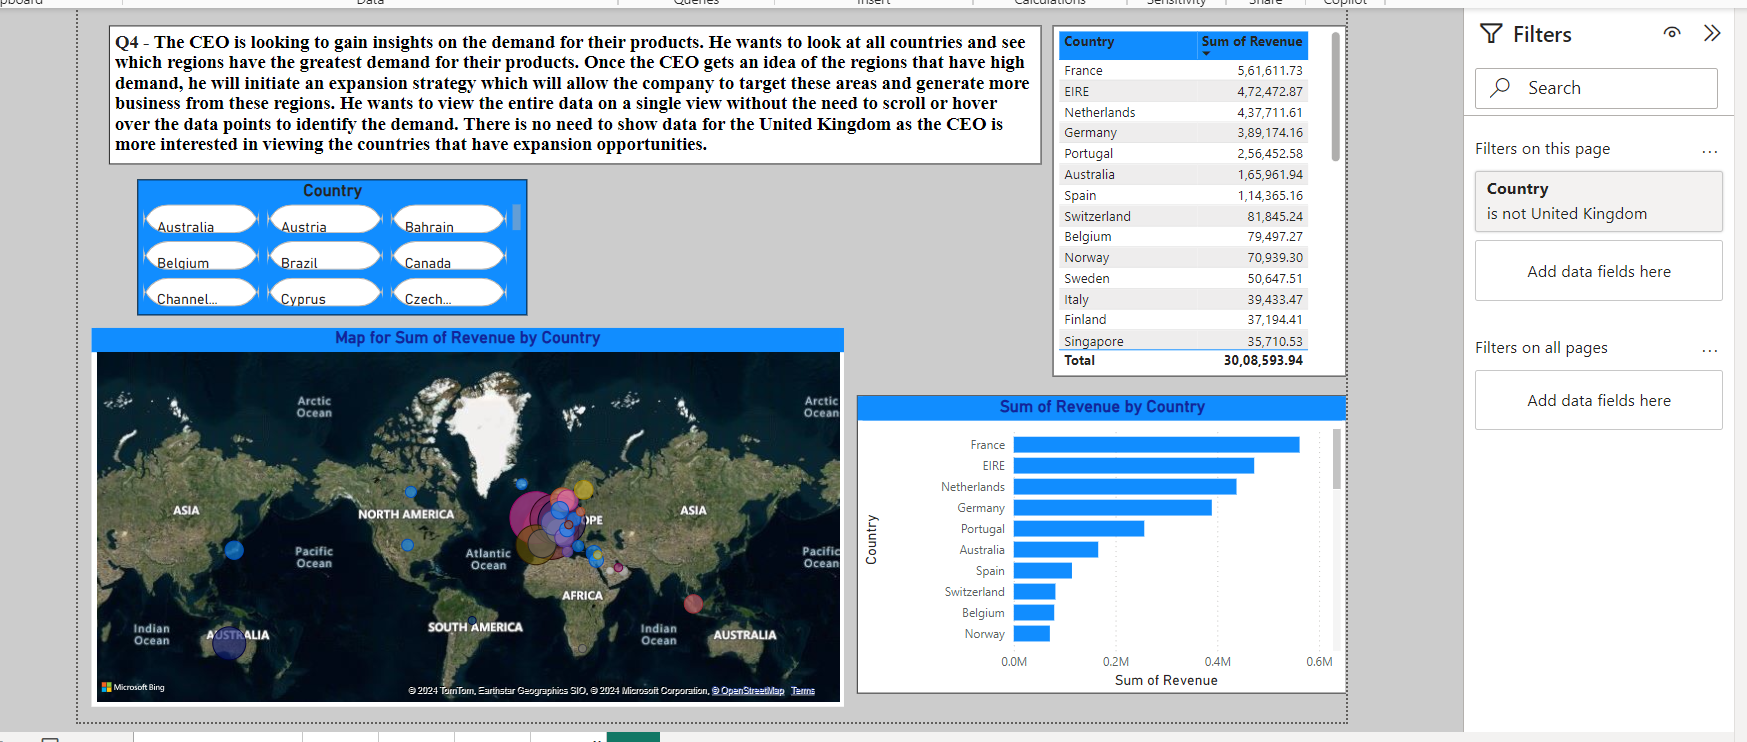

What the dashboard file says about the page in this screenshot:
{"tool":"powerbi","page":{"name":"Q4","canvas":[1280,720],"ordinal":4},"visuals":[{"type":"map","title":"Map for Sum of Revenue  by Country","fields":{"Category":["Online Retail.Country"],"Size":["Sum(Online Retail.Revenue )"]},"box":[14,322.8,759.5,382.1],"z":1000},{"type":"tableEx","fields":{"Values":["Online Retail.Country","Sum(Online Retail.Revenue )"]},"box":[984.1,17.2,296.3,354],"z":2000},{"type":"barChart","fields":{"Category":["Online Retail.Country"],"Y":["Sum(Online Retail.Revenue )"]},"box":[786,391.5,494.4,301],"z":3000},{"type":"textbox","box":[31.2,17.2,940.4,140.4],"z":4000},{"type":"advancedSlicerVisual","fields":{"Values":["Online Retail.Country"]},"box":[59.3,173.1,393,137.2],"z":4001}]}

Visuals, with their boxes on the page's 1280x720 design canvas (x1, y1, x2, y2). These are canvas units, not pixel positions in the 1747x742 screenshot, which may show the page scaled, cropped or inside an application window:
"Map for Sum of Revenue  by Country" map: [left=14, top=323, right=774, bottom=705]
tableEx - Online Retail.Country x Sum(Online Retail.Revenue ): [left=984, top=17, right=1280, bottom=371]
barChart - Online Retail.Country x Sum(Online Retail.Revenue ): [left=786, top=392, right=1280, bottom=692]
textbox: [left=31, top=17, right=972, bottom=158]
advancedSlicerVisual - Online Retail.Country: [left=59, top=173, right=452, bottom=310]
